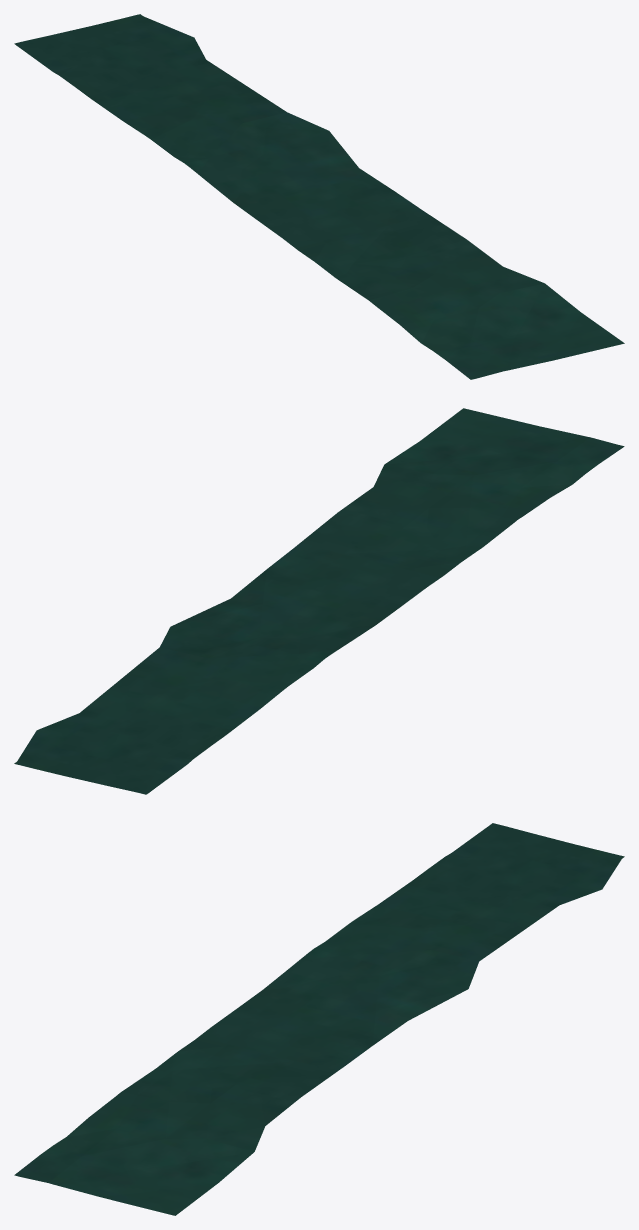
3 views of the same model, one above another, from view 1: azimuth 30°, elevation 25°; view 2: azimuth 150°, elevation 25°; view 3: azimuth 330°, elevation 25° (orthographic). The views are drawn at different scales.
Size of the model in its own units: 10.17 by 0.5417 by 52.22.
1 material, 1 textured.
